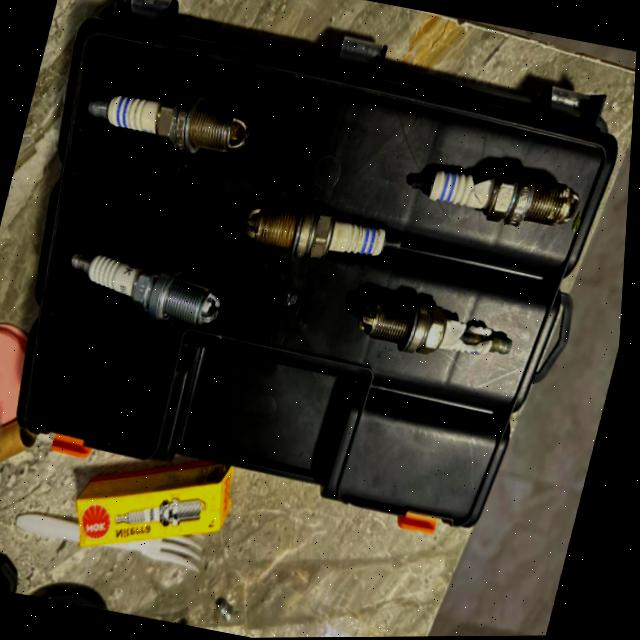damaged_spark-plug: (402, 155, 583, 229), (359, 295, 524, 366)
spark-plug: (56, 232, 245, 342), (76, 75, 257, 167), (238, 194, 401, 273)
